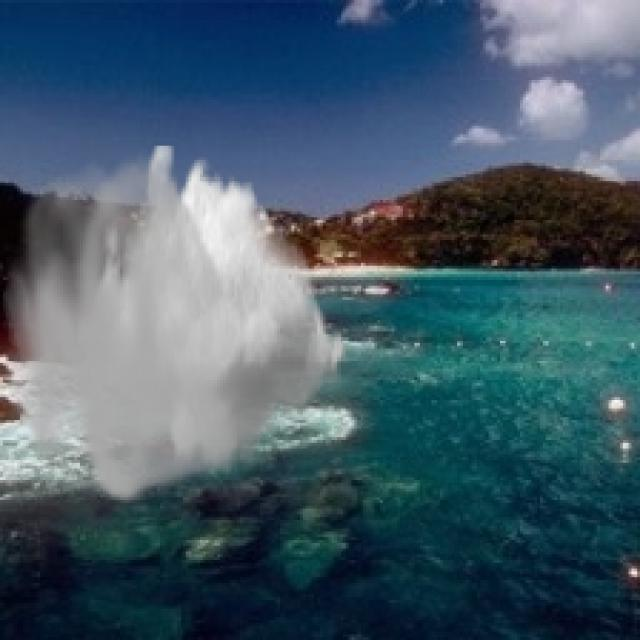smoke: (3, 146, 348, 508)
